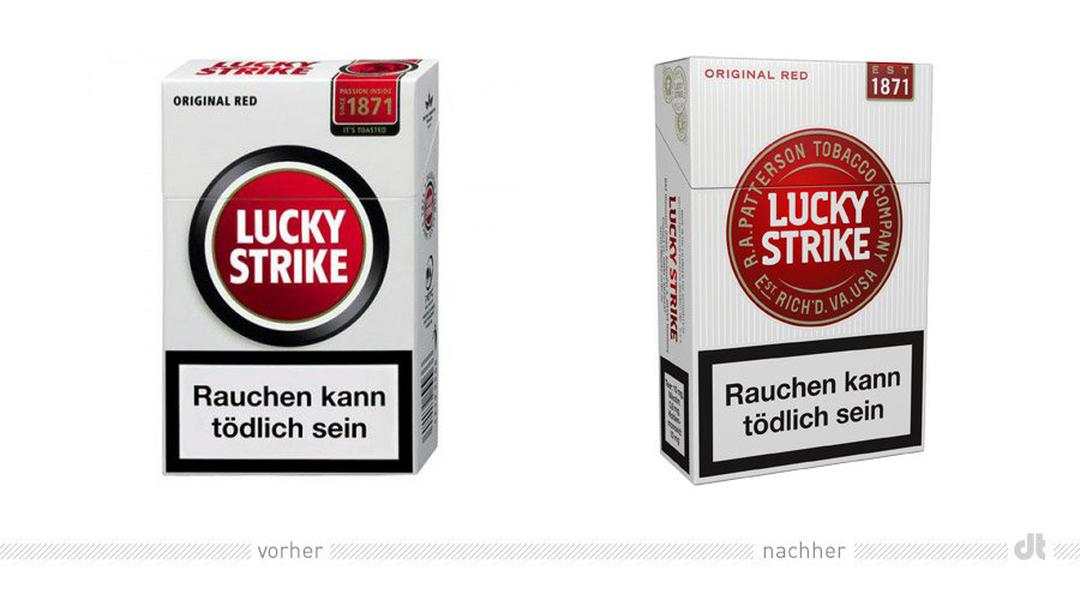lucky_strike_red: (163, 81, 413, 473), (690, 61, 925, 448)
